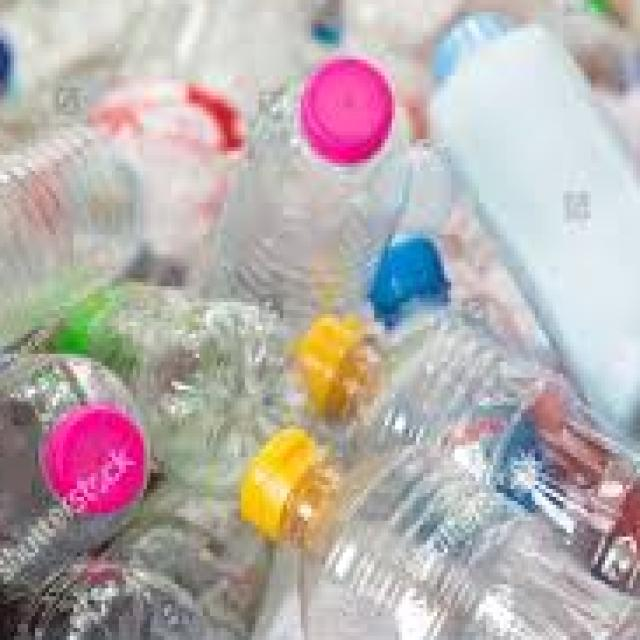organic: (4, 5, 631, 629)
